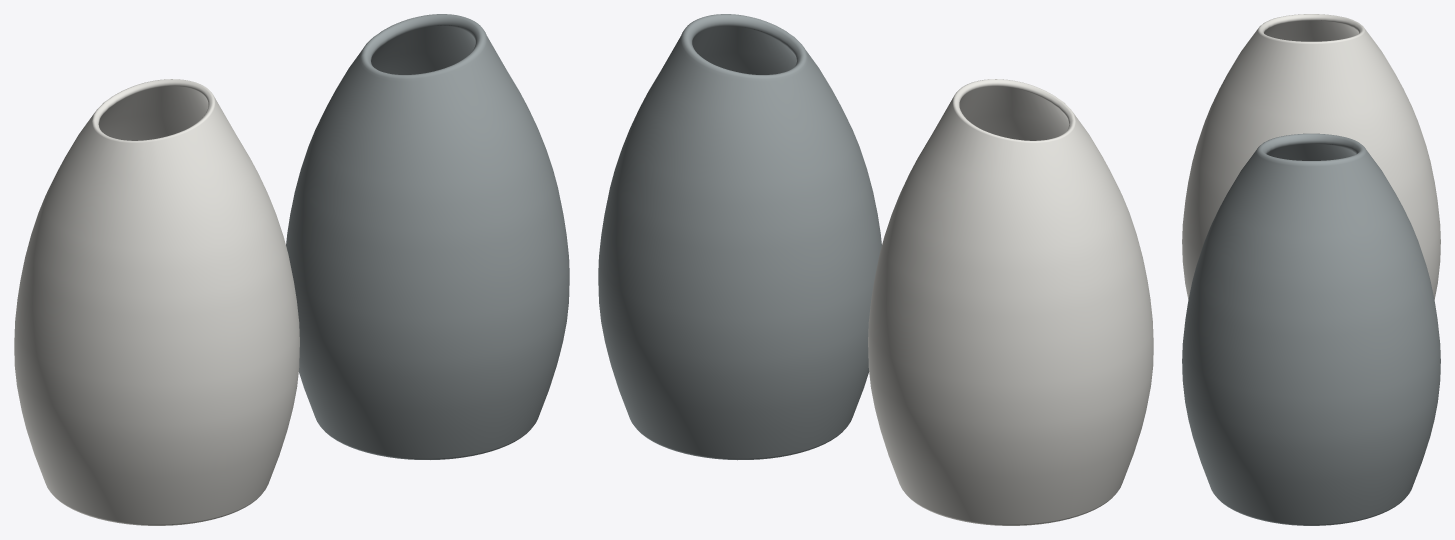
The model's file is B07QHL8W81.glb.
3 views of the same model, side by side, from view 1: azimuth 30°, elevation 25°; view 2: azimuth 150°, elevation 25°; view 3: azimuth 270°, elevation 25° (orthographic). The views are drawn at different scales.
Visible parts, largest first — view 1: RootNode; view 2: RootNode; view 3: RootNode.
Part boxes in pixels (x1,y1,x2,y2): RootNode: (14,14,569,525); RootNode: (598,14,1153,525); RootNode: (1182,14,1440,525).
Size of the model in its own units: 0.1868 by 0.1313 by 0.0894.
1 material, 1 textured.
